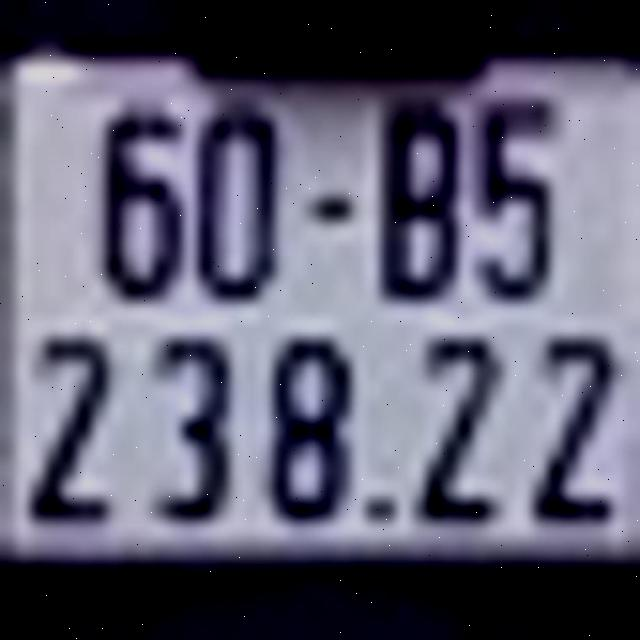0: (192, 102, 281, 305)
2: (24, 326, 116, 526), (531, 326, 618, 525), (417, 329, 503, 525)
3: (146, 326, 235, 525)
5: (476, 92, 562, 303)
6: (100, 105, 185, 302)
8: (267, 325, 354, 525)
B: (377, 93, 464, 302)
